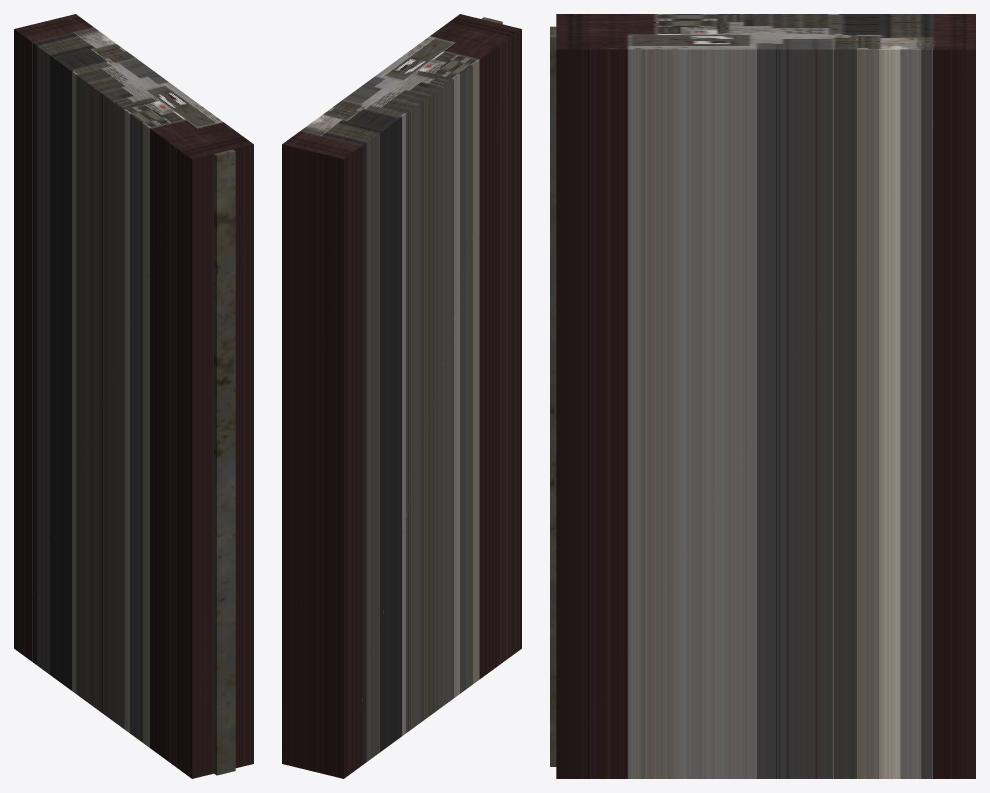
Rendered from door.DAE.
3 renders of one model, left to right at view 1: azimuth 30°, elevation 25°; view 2: azimuth 150°, elevation 25°; view 3: azimuth 270°, elevation 25°, orthographic. The views are drawn at different scales.
Visible parts, largest first — view 1: colbox-01, Door; view 2: colbox-01; view 3: colbox-01, Door.
Boxes of the visible parts, bbox=[...] form: colbox-01: bbox=[14, 14, 253, 778]; Door: bbox=[214, 149, 235, 775]; colbox-01: bbox=[282, 14, 521, 778]; colbox-01: bbox=[556, 14, 975, 778]; Door: bbox=[550, 26, 556, 766].
Size of the model in its own units: 24.83 by 126 by 238.
